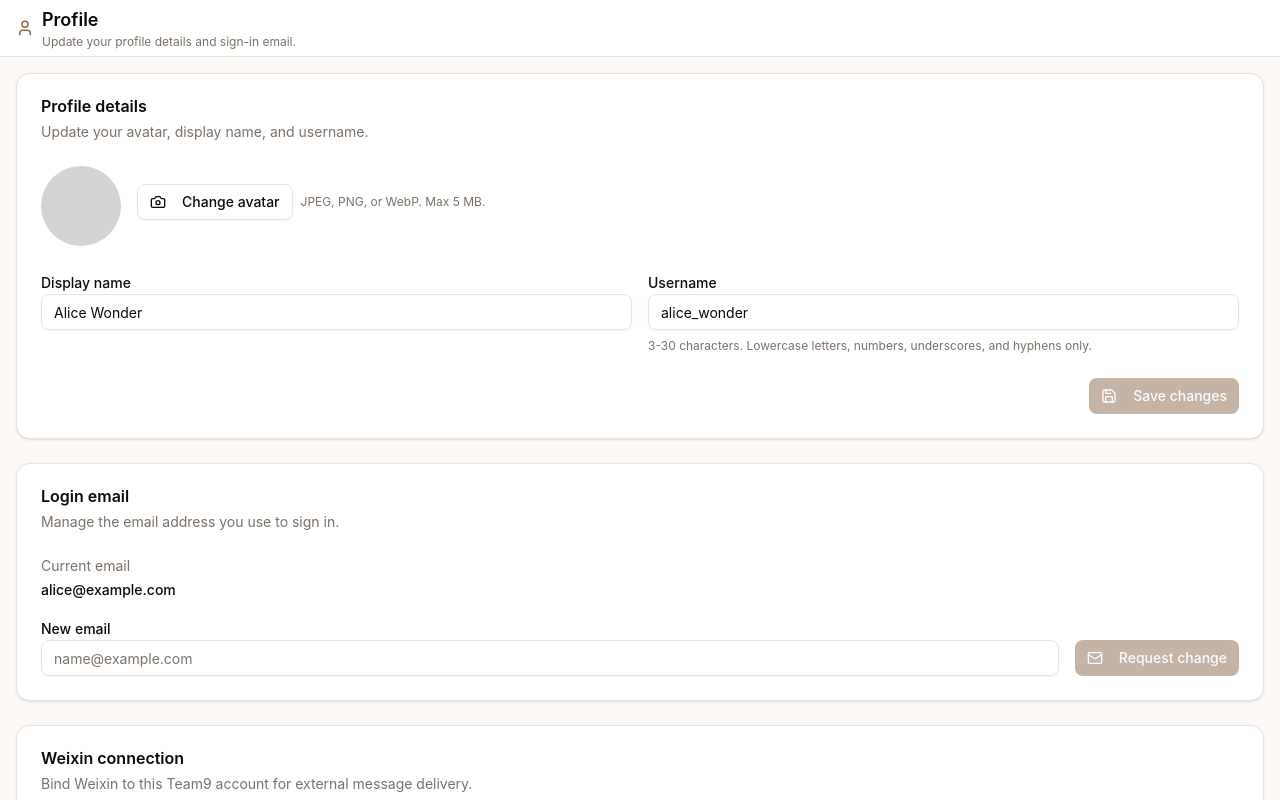
Scenario: AccountSettingsContent › shows a specific error when the username is already taken
Replace the text in the field labelled "Username" with "taken_name". click: (944, 312)
box: [648,294,1239,330]
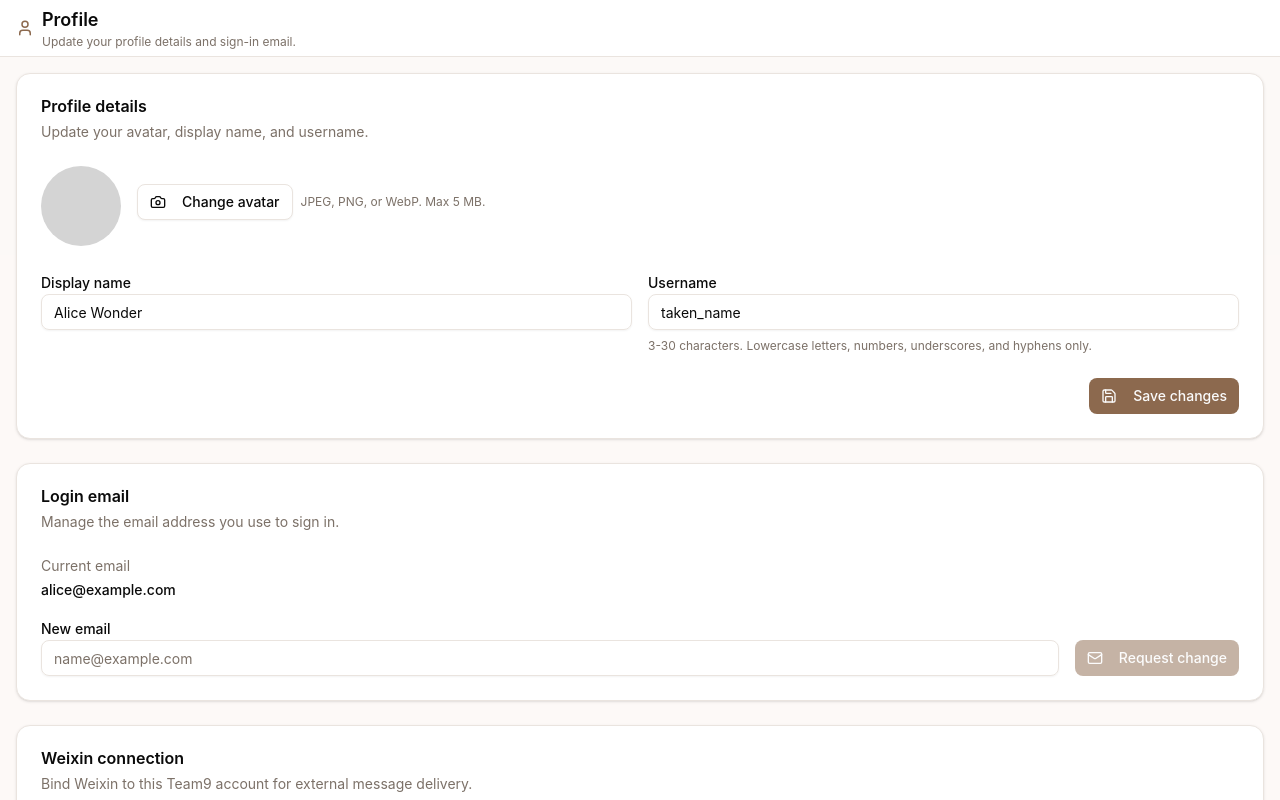
Click the button "Save changes". click: (1164, 396)
box: [1089,378,1239,414]
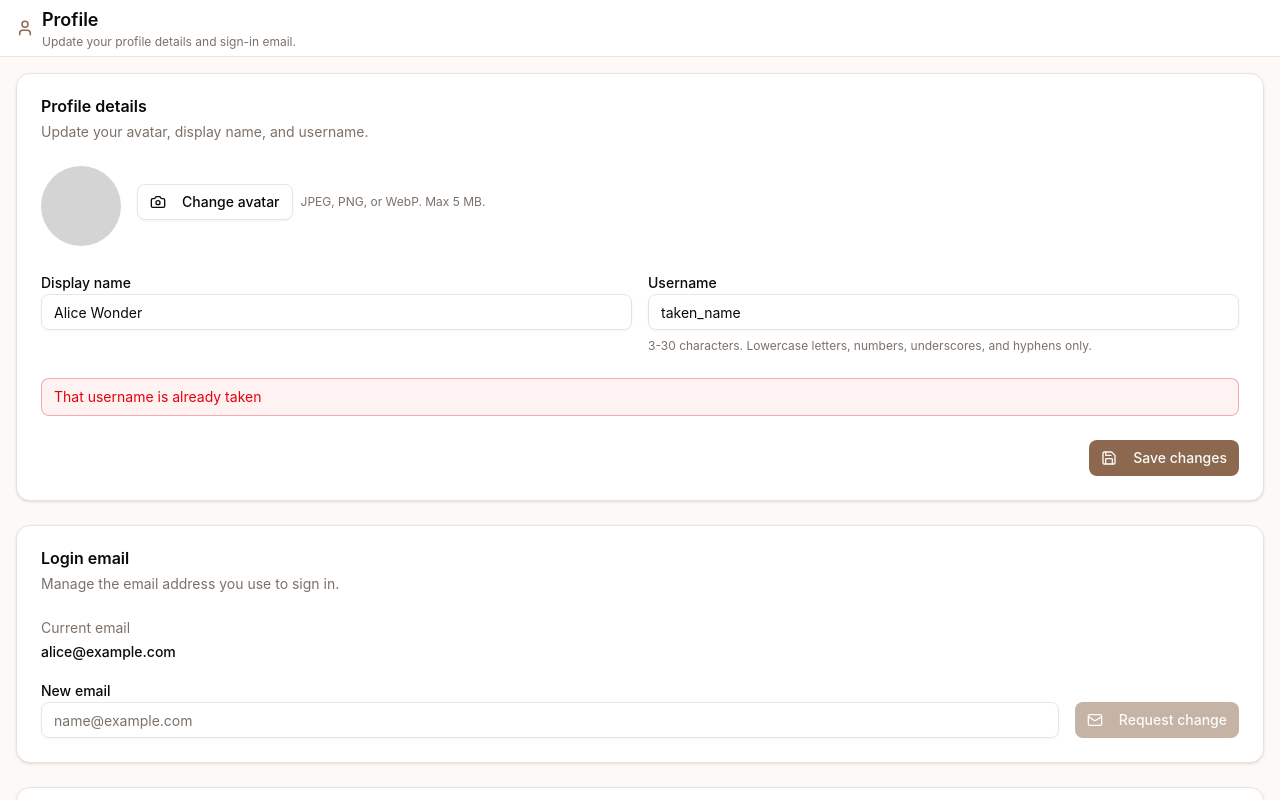
Now the text "That username is already taken" is shown, box [41,378,1239,416]
